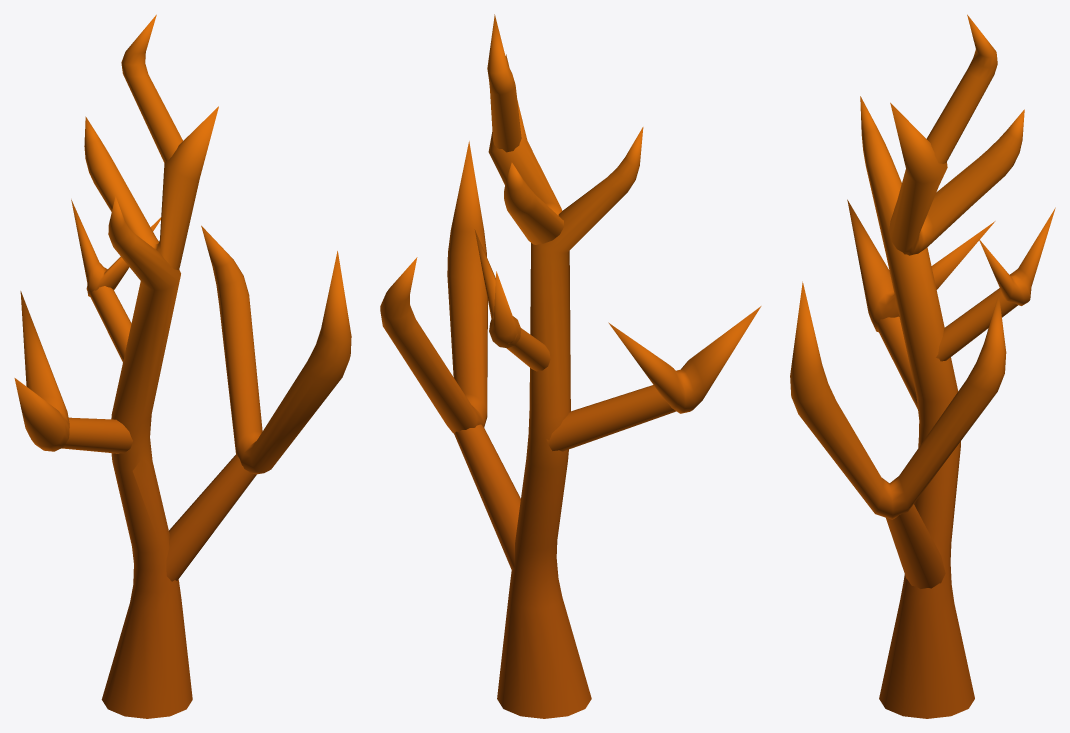
The model's file is Tree_04.3.fbx.
3 renders of one model, left to right at view 1: azimuth 30°, elevation 25°; view 2: azimuth 150°, elevation 25°; view 3: azimuth 270°, elevation 25°, orthographic. The views are drawn at different scales.
Parts seen in each view (by area): view 1: Tree_04.3; view 2: Tree_04.3; view 3: Tree_04.3.
Part boxes in pixels (<box>): Tree_04.3: <box>14,14,351,718</box>; Tree_04.3: <box>380,14,761,718</box>; Tree_04.3: <box>790,14,1055,718</box>.
Size of the model in its own units: 166 by 115 by 332.
